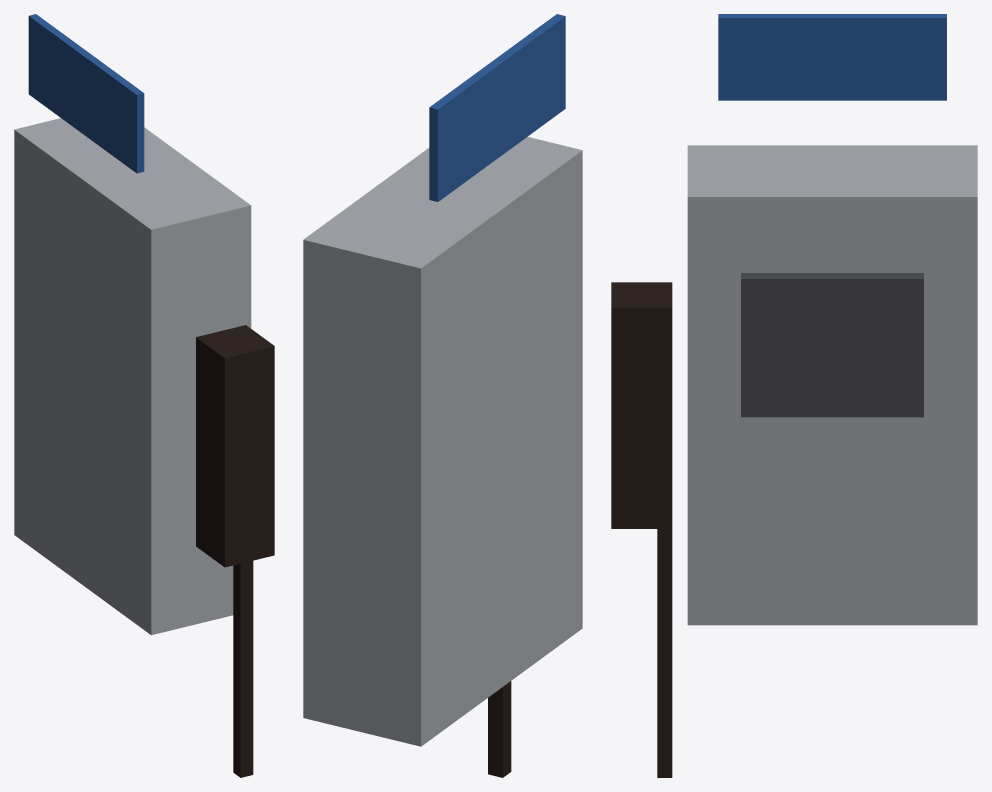
File: payphone_cityhall.glb
3 renders of one model, left to right at view 1: azimuth 30°, elevation 25°; view 2: azimuth 150°, elevation 25°; view 3: azimuth 270°, elevation 25°, orthographic. The views are drawn at different scales.
Parts seen in each view (by area): view 1: Box1, Box3, Box5, Box4; view 2: Box1, Box5, Box4; view 3: Box1, Box2, Box5, Box3, Box4.
Boxes of the visible parts, left/top/right/bottom form: Box1: left=14, top=118, right=251, bottom=635; Box3: left=196, top=325, right=274, bottom=567; Box5: left=28, top=14, right=144, bottom=173; Box4: left=233, top=560, right=253, bottom=777; Box1: left=303, top=136, right=582, bottom=746; Box5: left=429, top=14, right=565, bottom=201; Box4: left=488, top=681, right=511, bottom=777; Box1: left=687, top=145, right=977, bottom=625; Box2: left=741, top=273, right=923, bottom=417; Box5: left=718, top=14, right=946, bottom=100; Box3: left=611, top=282, right=672, bottom=528; Box4: left=657, top=529, right=672, bottom=777.
Size of the model in its own units: 0.179 by 1.04 by 0.48.
